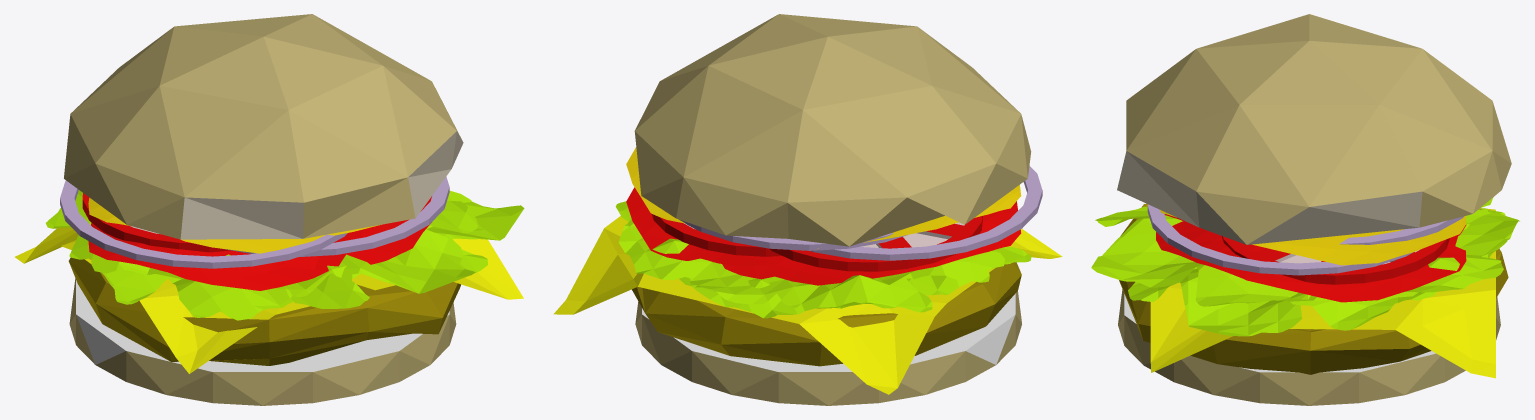
3 views of the same model, side by side, from view 1: azimuth 30°, elevation 25°; view 2: azimuth 150°, elevation 25°; view 3: azimuth 270°, elevation 25° (orthographic).
Visible parts, largest first — view 1: Mesh2_Group3_Group1_Burger1_Model, Mesh15_Group1_Burger1_Model, Mesh11_chamfer_Group1_Burger1_Model, Mesh3_Group4_Group1_Burger1_Model, Mesh9_Group10_Group1_Burger1_Model, Mesh6_Group7_Group1_Burger1_Model, Mesh13_Group13_Group1_Burger1_Model, Mesh7_Group8_Group1_Burger1_Model, Mesh10_Group11_Group1_Burger1_Model, Mesh14_Group14_Group1_Burger1_Model, Mesh12_Group12_Group1_Burger1_Model, Mesh1_Group2_Group1_Burger1_Model; view 2: Mesh2_Group3_Group1_Burger1_Model, Mesh15_Group1_Burger1_Model, Mesh9_Group10_Group1_Burger1_Model, Mesh11_chamfer_Group1_Burger1_Model, Mesh3_Group4_Group1_Burger1_Model, Mesh1_Group2_Group1_Burger1_Model, Mesh7_Group8_Group1_Burger1_Model, Mesh13_Group13_Group1_Burger1_Model, Mesh6_Group7_Group1_Burger1_Model, Mesh14_Group14_Group1_Burger1_Model, Mesh8_Group9_Group1_Burger1_Model, Mesh4_Group5_Group1_Burger1_Model (+2 smaller); view 3: Mesh2_Group3_Group1_Burger1_Model, Mesh3_Group4_Group1_Burger1_Model, Mesh9_Group10_Group1_Burger1_Model, Mesh15_Group1_Burger1_Model, Mesh11_chamfer_Group1_Burger1_Model, Mesh6_Group7_Group1_Burger1_Model, Mesh14_Group14_Group1_Burger1_Model, Mesh5_Group6_Group1_Burger1_Model, Mesh8_Group9_Group1_Burger1_Model, Mesh10_Group11_Group1_Burger1_Model, Mesh4_Group5_Group1_Burger1_Model.
Boxes of the visible parts, x1,y1,x2,y2 form: Mesh2_Group3_Group1_Burger1_Model: (64, 14, 463, 239); Mesh15_Group1_Burger1_Model: (69, 278, 456, 405); Mesh11_chamfer_Group1_Burger1_Model: (68, 257, 460, 365); Mesh3_Group4_Group1_Burger1_Model: (46, 190, 477, 308); Mesh9_Group10_Group1_Burger1_Model: (15, 227, 523, 373); Mesh6_Group7_Group1_Burger1_Model: (89, 190, 524, 320); Mesh13_Group13_Group1_Burger1_Model: (88, 222, 363, 290); Mesh7_Group8_Group1_Burger1_Model: (60, 180, 347, 268); Mesh10_Group11_Group1_Burger1_Model: (222, 176, 449, 257); Mesh14_Group14_Group1_Burger1_Model: (239, 196, 431, 270); Mesh12_Group12_Group1_Burger1_Model: (88, 197, 325, 253); Mesh1_Group2_Group1_Burger1_Model: (82, 193, 230, 252); Mesh2_Group3_Group1_Burger1_Model: (634, 14, 1031, 246); Mesh15_Group1_Burger1_Model: (635, 291, 1021, 405); Mesh9_Group10_Group1_Burger1_Model: (553, 216, 1062, 394); Mesh11_chamfer_Group1_Burger1_Model: (632, 262, 1021, 366); Mesh3_Group4_Group1_Burger1_Model: (618, 219, 1004, 312); Mesh1_Group2_Group1_Burger1_Model: (769, 216, 982, 271); Mesh7_Group8_Group1_Burger1_Model: (810, 166, 1042, 260); Mesh13_Group13_Group1_Burger1_Model: (722, 201, 1021, 285); Mesh6_Group7_Group1_Burger1_Model: (615, 201, 1031, 318); Mesh14_Group14_Group1_Burger1_Model: (626, 187, 794, 267); Mesh8_Group9_Group1_Burger1_Model: (651, 214, 781, 256); Mesh4_Group5_Group1_Burger1_Model: (679, 219, 907, 250); Mesh2_Group3_Group1_Burger1_Model: (1117, 14, 1511, 244); Mesh3_Group4_Group1_Burger1_Model: (1091, 197, 1519, 306); Mesh9_Group10_Group1_Burger1_Model: (1150, 208, 1495, 378); Mesh15_Group1_Burger1_Model: (1118, 289, 1500, 405); Mesh11_chamfer_Group1_Burger1_Model: (1119, 203, 1508, 374); Mesh6_Group7_Group1_Burger1_Model: (1128, 208, 1507, 336); Mesh14_Group14_Group1_Burger1_Model: (1156, 221, 1466, 302); Mesh5_Group6_Group1_Burger1_Model: (1160, 210, 1466, 265); Mesh8_Group9_Group1_Burger1_Model: (1221, 236, 1449, 284); Mesh10_Group11_Group1_Burger1_Model: (1147, 204, 1413, 275); Mesh4_Group5_Group1_Burger1_Model: (1339, 216, 1463, 244).
Bounding box in the file's own units: 0.1355 × 0.1256 × 0.0918.
